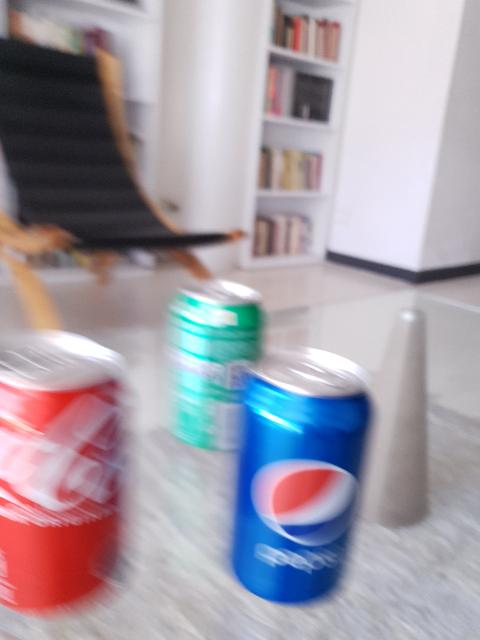coke: (0, 326, 136, 616)
pepsi: (222, 346, 378, 602)
sprite: (166, 272, 268, 454)
